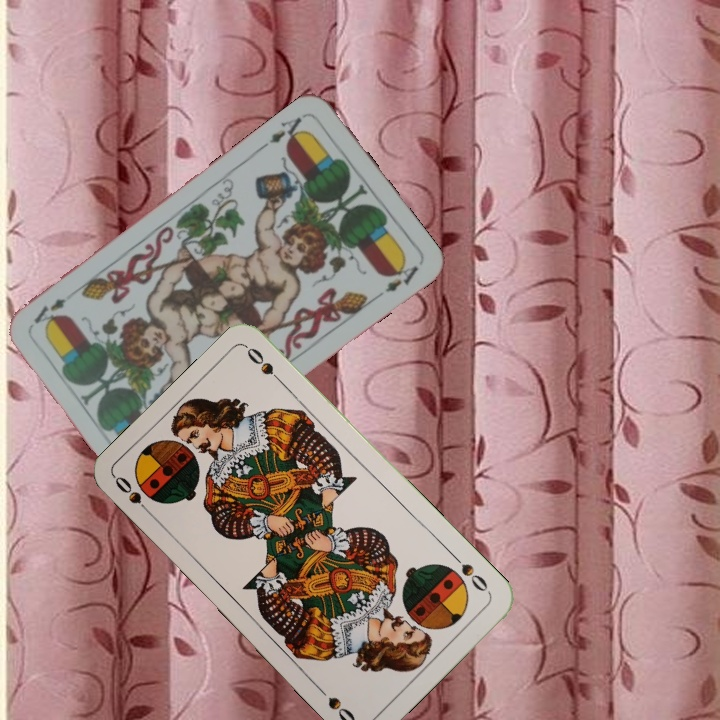EA: (265, 112, 309, 149)
SO: (111, 472, 157, 521), (447, 549, 491, 595)
